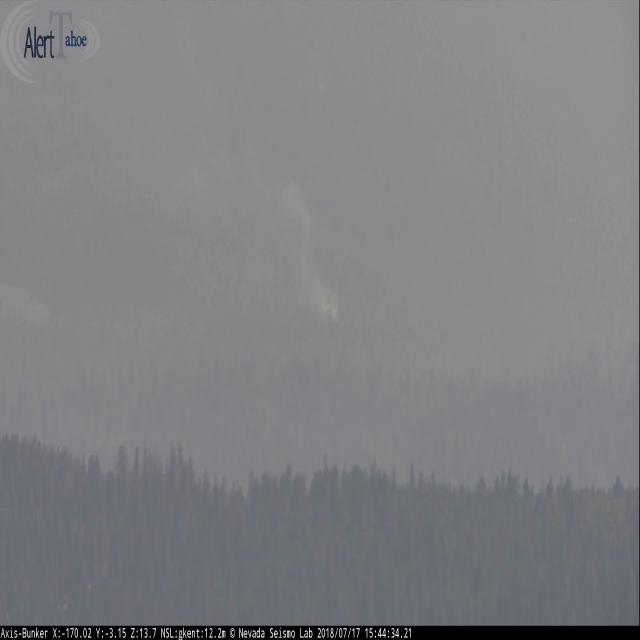smoke: (259, 161, 344, 332)
